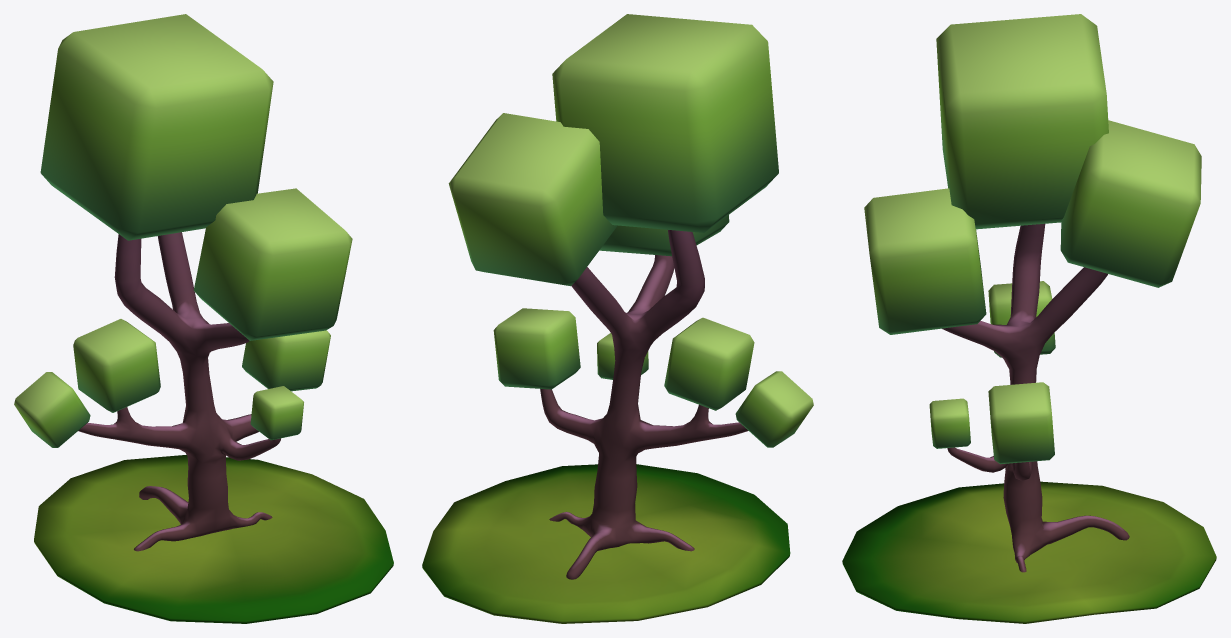
Rendered from stylized_tree_03_clean.glb.
3 views of the same model, side by side, from view 1: azimuth 30°, elevation 25°; view 2: azimuth 150°, elevation 25°; view 3: azimuth 270°, elevation 25° (orthographic). The views are drawn at different scales.
Parts seen in each view (by area): view 1: TreeBark_03_Clean, Tree_03_Ground_Baked; view 2: TreeBark_03_Clean, Tree_03_Ground_Baked; view 3: TreeBark_03_Clean, Tree_03_Ground_Baked.
Boxes of the visible parts, box(x1,y1,x2,y2) form: TreeBark_03_Clean: box(14, 14, 352, 551); Tree_03_Ground_Baked: box(34, 455, 393, 623); TreeBark_03_Clean: box(448, 14, 813, 579); Tree_03_Ground_Baked: box(422, 464, 790, 623); TreeBark_03_Clean: box(864, 14, 1201, 572); Tree_03_Ground_Baked: box(842, 481, 1216, 623).
Bounding box in the file's own units: 1207 × 1755 × 1203.
Materials: 2 (2 with a texture image).
